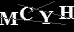C: (18, 6, 35, 21)
H: (57, 5, 74, 20)
M: (1, 11, 18, 26)
Y: (38, 9, 54, 25)
